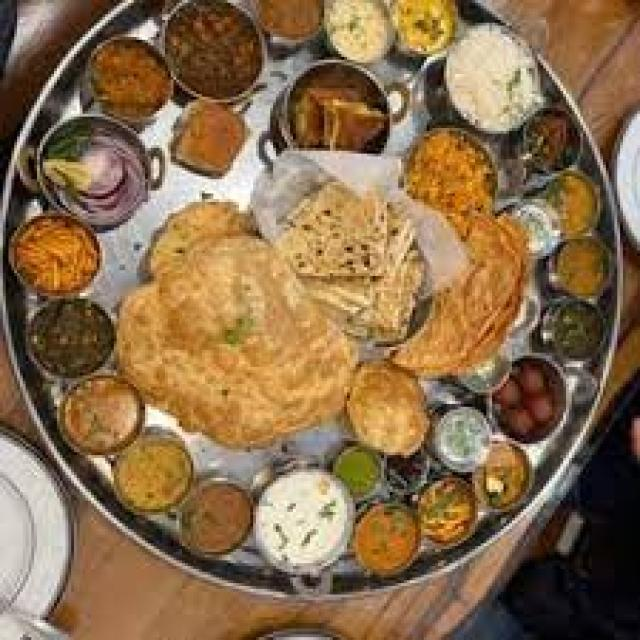dal: (107, 435, 196, 516)
papad: (260, 157, 414, 299)
raita: (0, 452, 70, 620)
rice: (442, 23, 544, 129), (1, 459, 64, 622)
roti: (133, 219, 359, 443), (407, 180, 535, 382)
sweet: (44, 123, 152, 218), (49, 373, 151, 456), (486, 355, 576, 440), (173, 480, 259, 560), (546, 233, 616, 298), (521, 105, 582, 173), (543, 169, 605, 235)
veg-fry: (349, 502, 424, 577)
